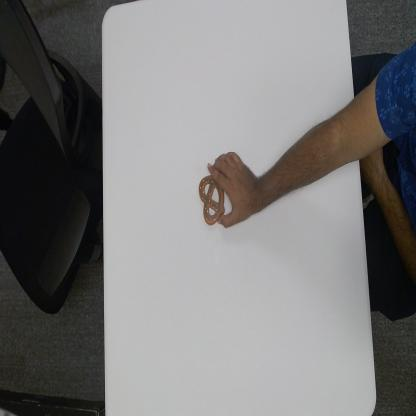Arm: (258, 90, 362, 210)
Hand: (210, 149, 260, 230)
Pretzel: (196, 167, 227, 228)
